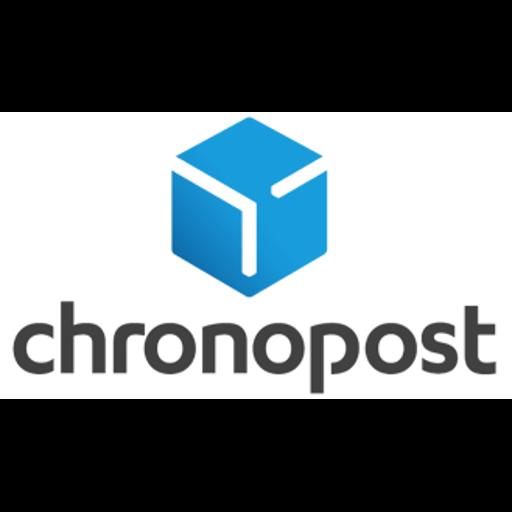Chronopost International: (0, 112, 512, 399)
